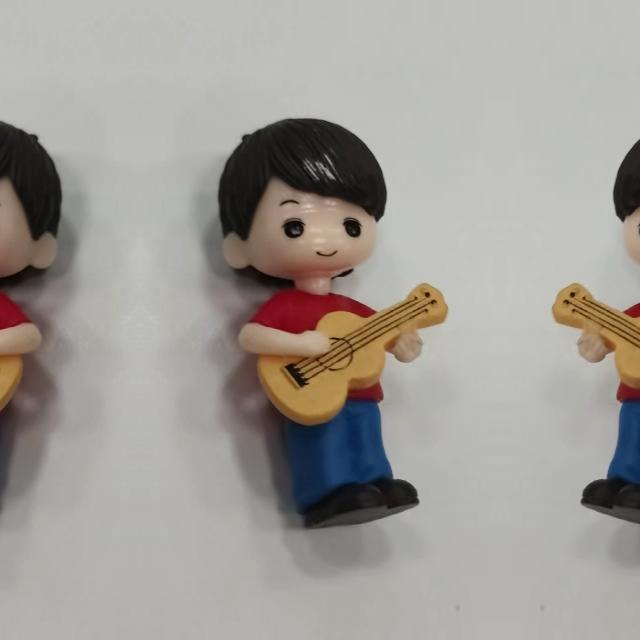man cloth: (236, 294, 408, 406), (592, 294, 640, 406), (0, 294, 44, 406)
man head: (210, 112, 390, 288), (0, 111, 70, 288), (609, 111, 640, 288)
trousers: (280, 394, 420, 528), (579, 394, 640, 528)
